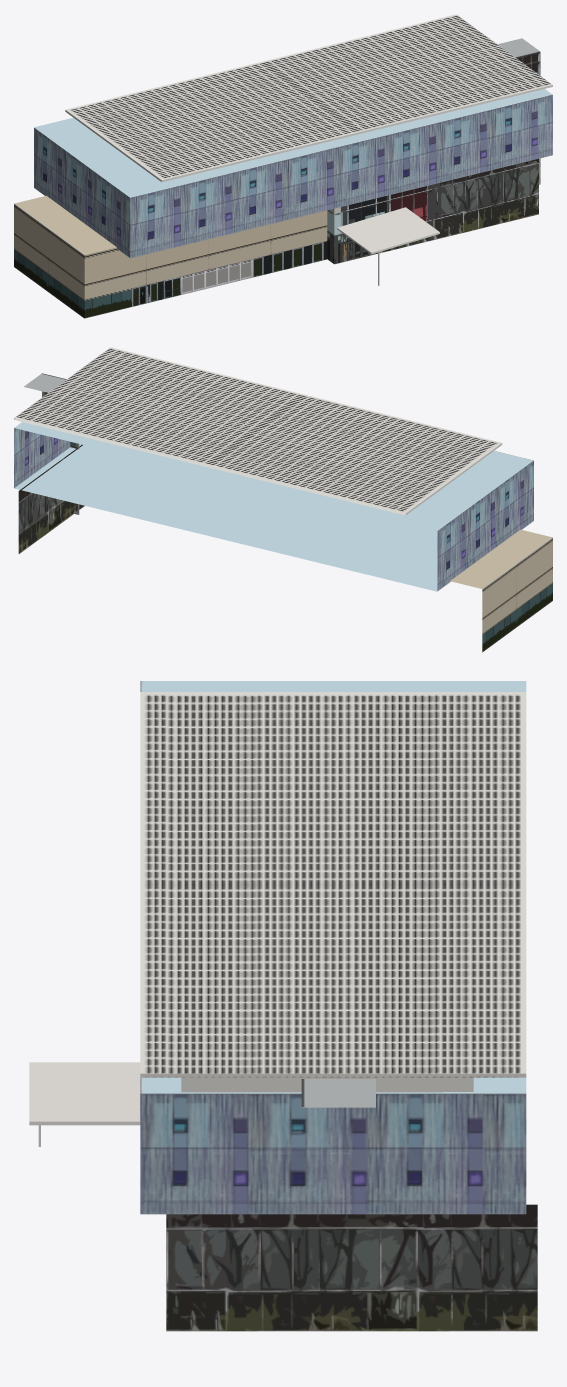
Rendered from kaiser_bldg.obj.
The picture shows the model from 3 angles, top to bottom: view 1: azimuth 30°, elevation 25°; view 2: azimuth 150°, elevation 25°; view 3: azimuth 270°, elevation 25°; orthographic projection. The views are drawn at different scales.
Visible parts, largest first — view 1: Kaiser_Bldg_4_Mesh.001, Kaiser_Bldg_2_Mesh.001, Kaiser_Bldg_7_Mesh.001, Kaiser_Bldg_3_Mesh.001, Kaiser_Bldg_6_Mesh.001, Kaiser_Bldg_1_Mesh.001; view 2: Kaiser_Bldg_4_Mesh.001, Kaiser_Bldg_2_Mesh.001, Kaiser_Bldg_7_Mesh.001, Kaiser_Bldg_3_Mesh.001, Kaiser_Bldg_1_Mesh.001; view 3: Kaiser_Bldg_2_Mesh.001, Kaiser_Bldg_4_Mesh.001, Kaiser_Bldg_3_Mesh.001, Kaiser_Bldg_6_Mesh.001, Kaiser_Bldg_5_Mesh.001, Kaiser_Bldg_1_Mesh.001.
Part boxes in pixels (<box>): Kaiser_Bldg_4_Mesh.001: <box>34,89,552,258</box>; Kaiser_Bldg_2_Mesh.001: <box>65,14,552,182</box>; Kaiser_Bldg_7_Mesh.001: <box>14,195,327,318</box>; Kaiser_Bldg_3_Mesh.001: <box>327,158,538,264</box>; Kaiser_Bldg_6_Mesh.001: <box>337,207,439,254</box>; Kaiser_Bldg_1_Mesh.001: <box>498,38,540,184</box>; Kaiser_Bldg_4_Mesh.001: <box>14,422,533,591</box>; Kaiser_Bldg_2_Mesh.001: <box>14,347,502,515</box>; Kaiser_Bldg_7_Mesh.001: <box>450,529,552,652</box>; Kaiser_Bldg_3_Mesh.001: <box>18,444,84,553</box>; Kaiser_Bldg_1_Mesh.001: <box>24,373,79,514</box>; Kaiser_Bldg_2_Mesh.001: <box>140,692,526,1077</box>; Kaiser_Bldg_4_Mesh.001: <box>140,681,526,1214</box>; Kaiser_Bldg_3_Mesh.001: <box>166,1204,537,1331</box>; Kaiser_Bldg_6_Mesh.001: <box>29,1062,140,1125</box>; Kaiser_Bldg_5_Mesh.001: <box>181,1077,473,1092</box>; Kaiser_Bldg_1_Mesh.001: <box>301,1079,375,1107</box>.
Bounding box in the file's own units: 0.0593 × 0.0159 × 0.027.
